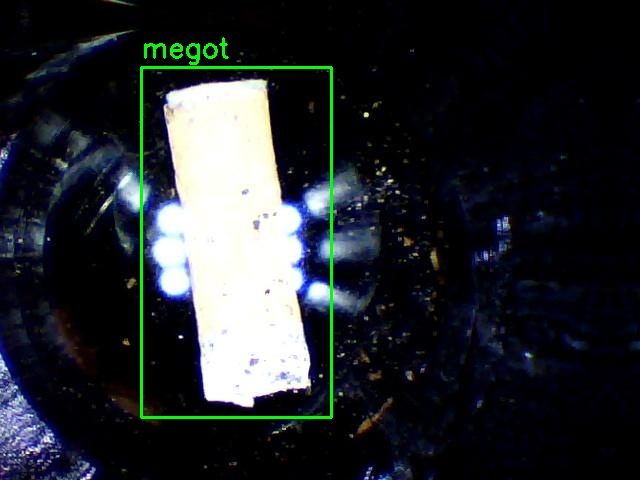megot: (141, 67, 331, 417)
